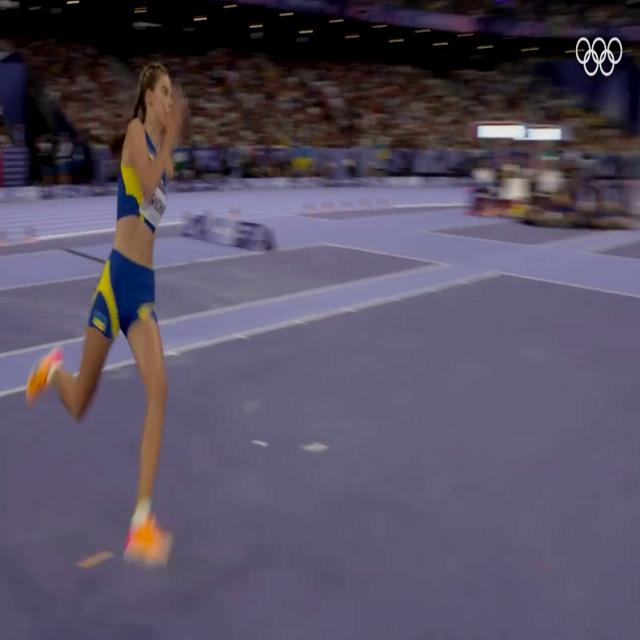run: (27, 54, 200, 565)
